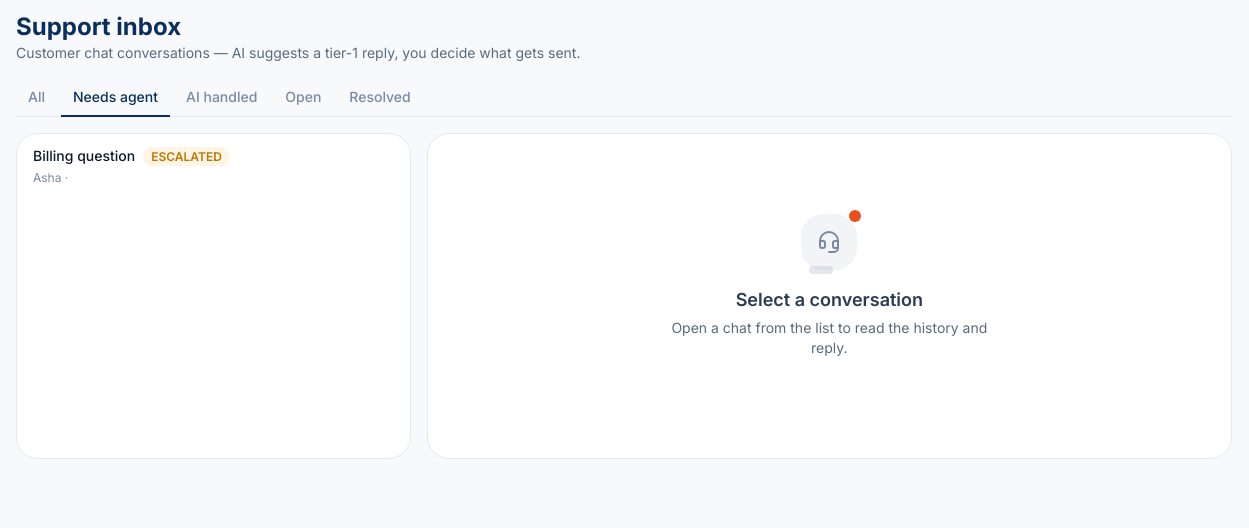
Test case: SupportInboxView › drafts a work artifact from a customer message with source citation
Click the text "Billing question": (84, 156) [33,146,135,166]
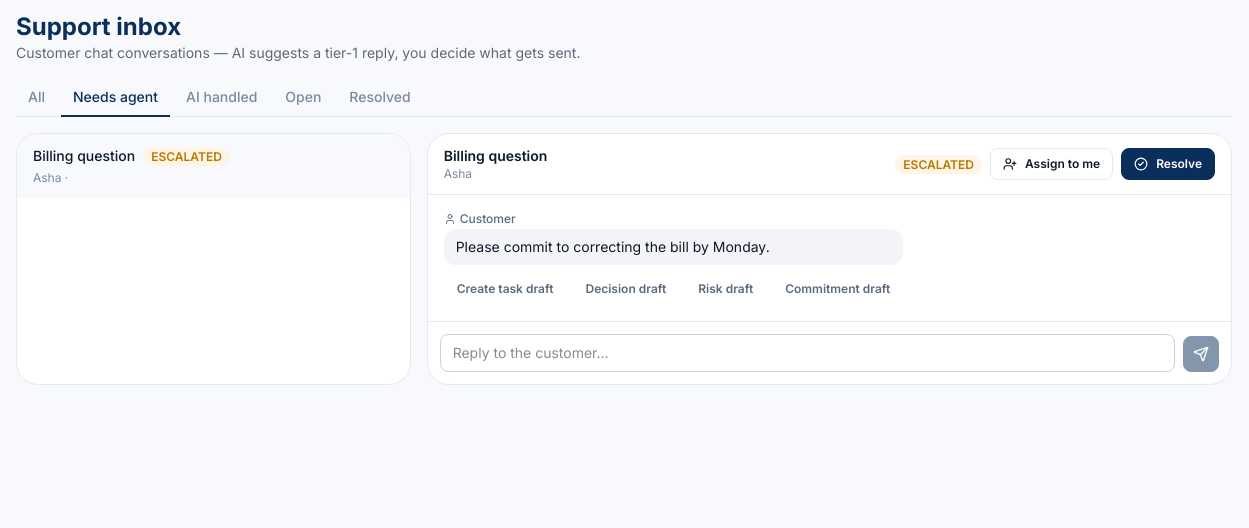
Expected: the text "Please commit to correcting the bill by Monday." is shown, [444,229,903,265]
Click the button "Commitment draft": (838, 289) [772,273,903,305]
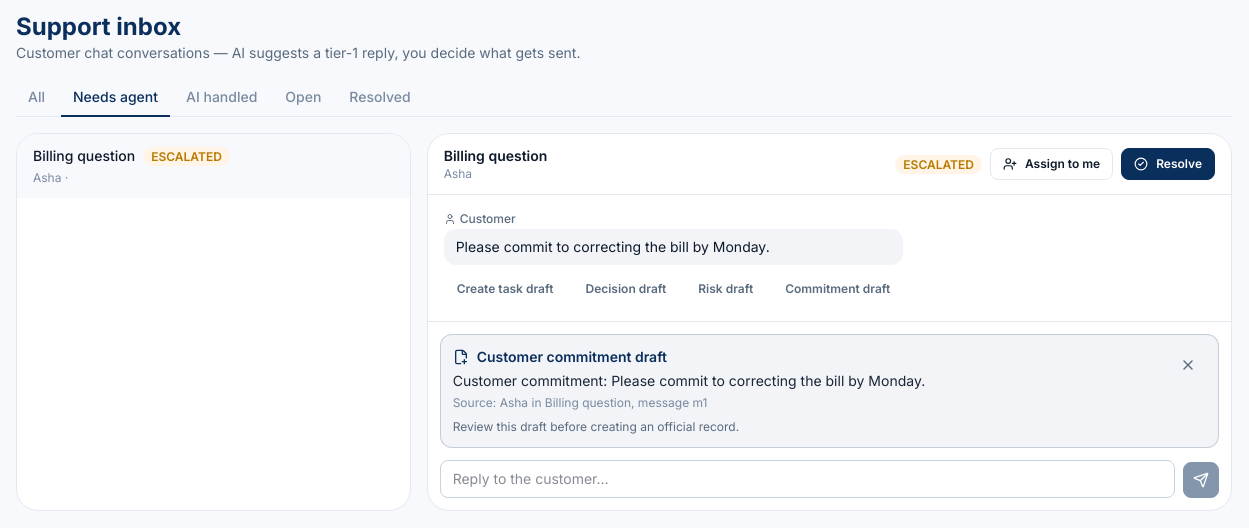
Expected: the text "Customer commitment draft" is shown, [453,348,667,365]
Expected: the text "Customer commitment: Please commit" is shown, [453,372,925,389]
Expected: the text "Source: Asha in Billing question, message m1" is shown, [453,395,708,410]
